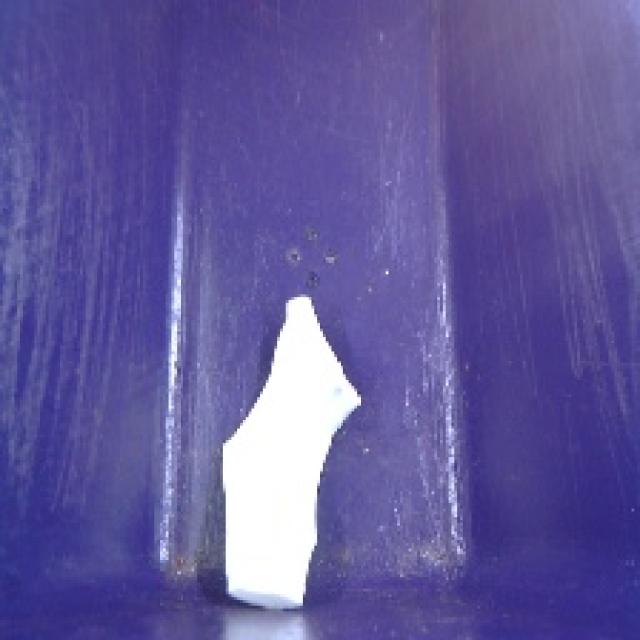china: (198, 272, 370, 620)
